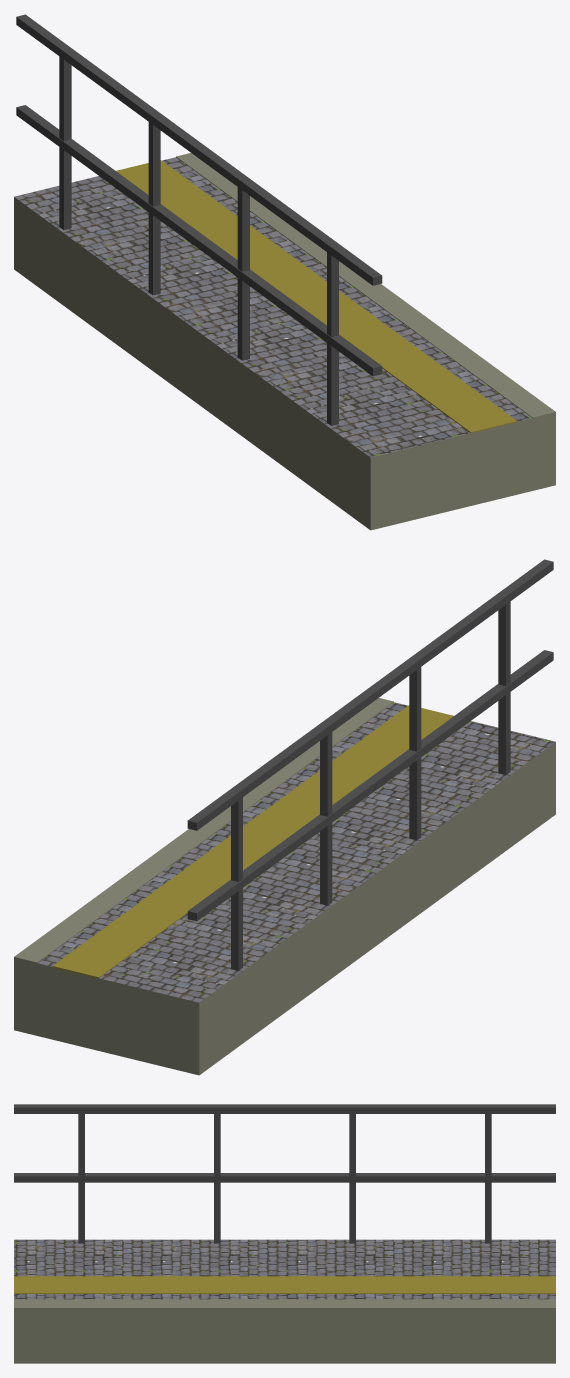
File: lrt_platform.fbx
The picture shows the model from 3 angles, top to bottom: view 1: azimuth 30°, elevation 25°; view 2: azimuth 150°, elevation 25°; view 3: azimuth 270°, elevation 25°; orthographic projection. The views are drawn at different scales.
Visible parts, largest first — view 1: lrt_platform.004; view 2: lrt_platform.004; view 3: lrt_platform.004.
Part boxes in pixels (left/top/right/bottom): lrt_platform.004: left=14, top=14, right=555, bottom=530; lrt_platform.004: left=14, top=559, right=555, bottom=1075; lrt_platform.004: left=14, top=1104, right=555, bottom=1363.
Size of the model in its own units: 1.2 by 1.56 by 4.
